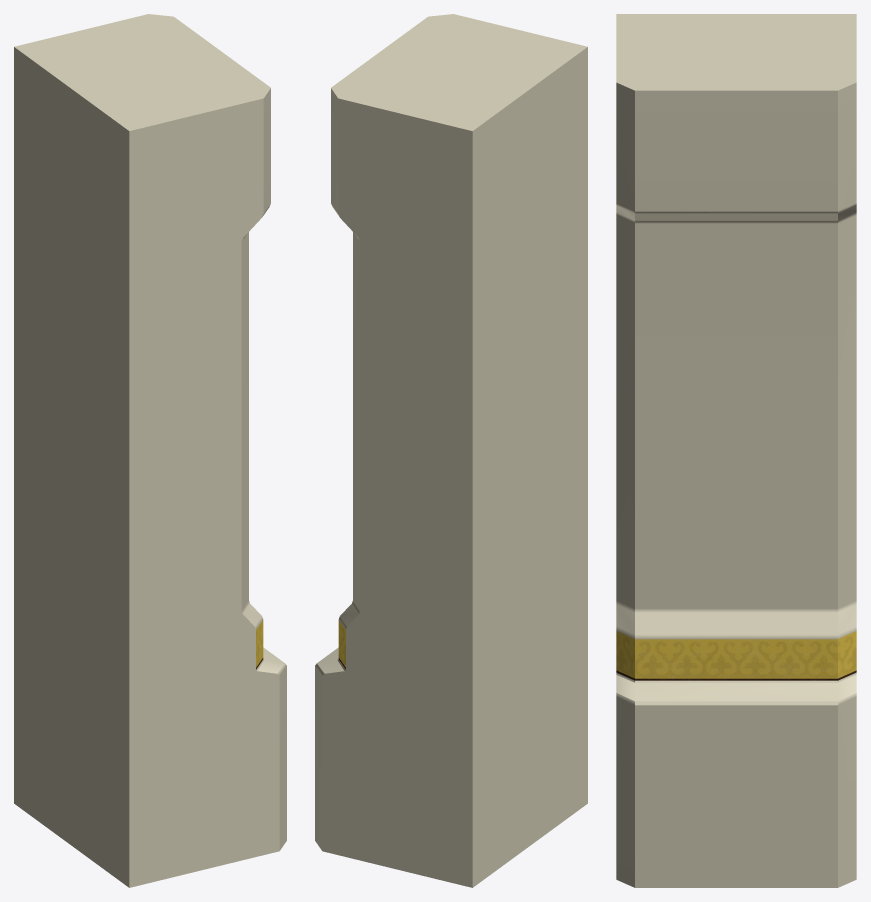
File: pillar2.fbx
3 renders of one model, left to right at view 1: azimuth 30°, elevation 25°; view 2: azimuth 150°, elevation 25°; view 3: azimuth 270°, elevation 25°, orthographic. The views are drawn at different scales.
Visible parts, largest first — view 1: pCube43; view 2: pCube43; view 3: pCube43.
Part boxes in pixels (left/top/right/bottom): pCube43: left=14, top=14, right=286, bottom=887; pCube43: left=315, top=14, right=587, bottom=887; pCube43: left=616, top=14, right=856, bottom=887.
Size of the model in its own units: 1.48 by 6.44 by 1.78.
